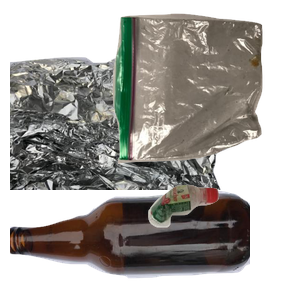glass: (10, 188, 250, 300)
metal: (10, 47, 250, 227)
plastic: (146, 182, 300, 300)
trash: (110, 11, 300, 167)
